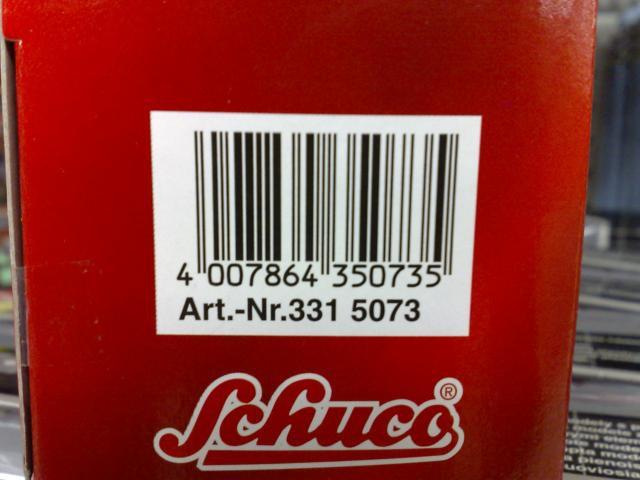Barcode: (160, 120, 469, 292)
